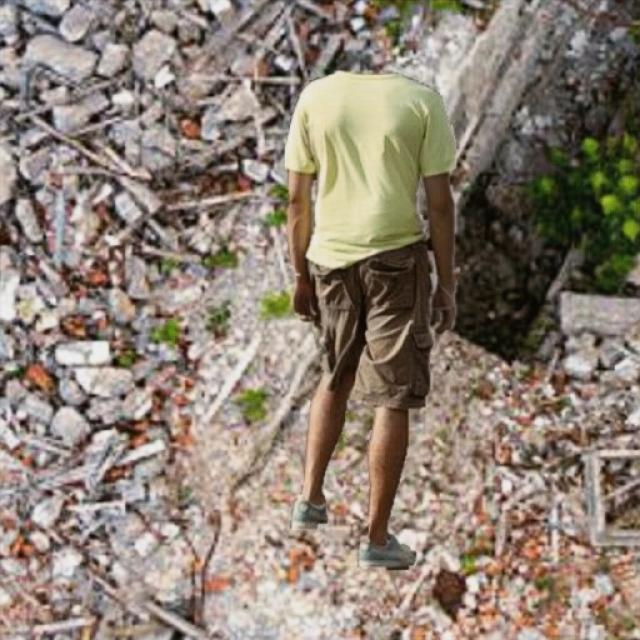Person in Rubble: (285, 70, 459, 569)
